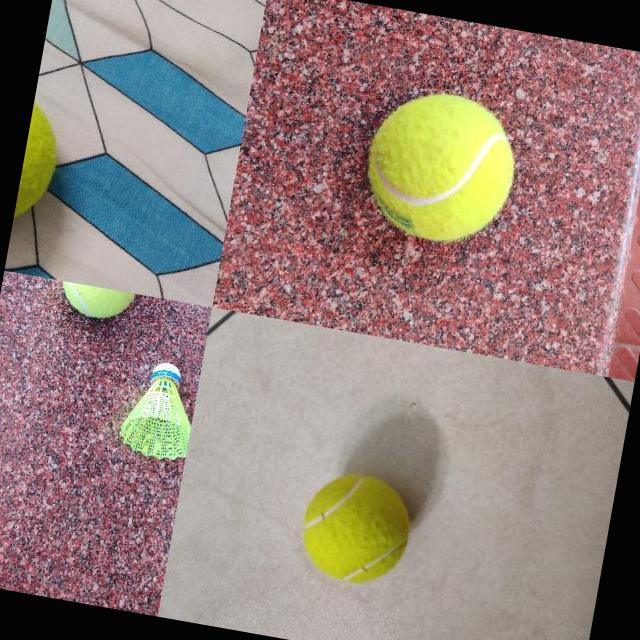tennis-ball: (356, 83, 524, 251), (294, 466, 418, 592), (11, 86, 69, 236), (56, 280, 136, 324)
